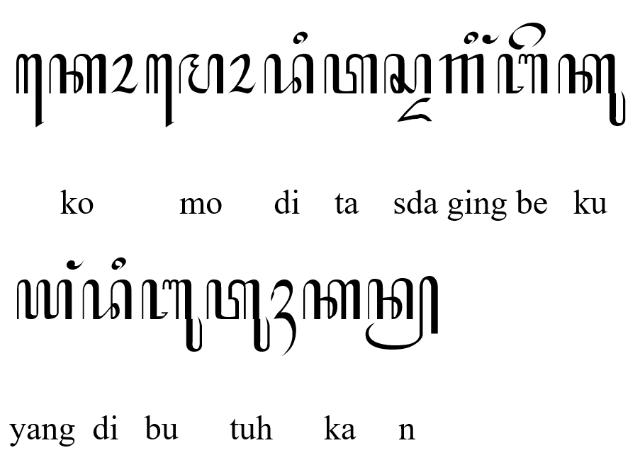-n: (365, 276, 439, 350)
_d: (396, 96, 432, 122)
_h1: (271, 279, 297, 357)
b: (497, 54, 549, 94)
bu: (141, 279, 203, 352)
d: (262, 53, 314, 95), (81, 280, 132, 320)
e: (508, 22, 546, 50)
e1: (144, 54, 174, 128), (16, 52, 44, 128)
g: (439, 54, 485, 94)
i: (292, 31, 308, 45), (112, 257, 128, 269), (464, 31, 478, 44)
k: (303, 280, 362, 320), (49, 54, 107, 94)
ku: (558, 53, 626, 127)
m: (178, 53, 226, 95)
ng: (482, 34, 501, 44), (66, 260, 84, 270)
o: (228, 52, 256, 94), (112, 52, 138, 94)
s: (383, 52, 432, 94)
t: (324, 54, 378, 94)
tu: (206, 279, 270, 352)
y: (16, 280, 72, 320)
